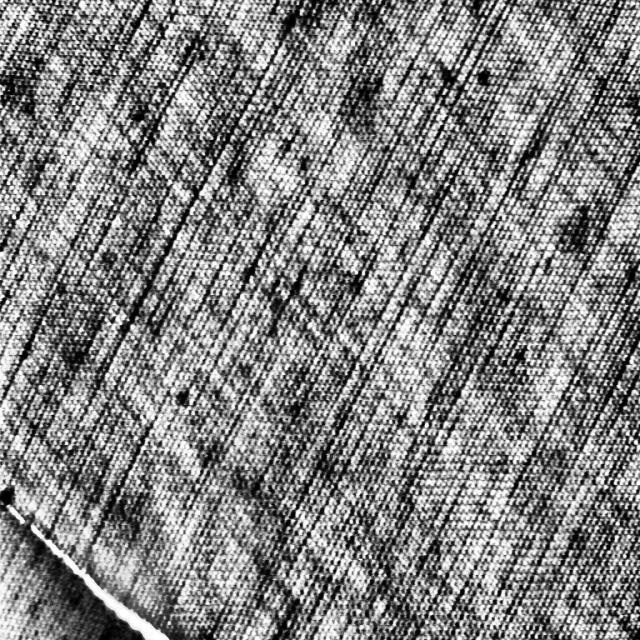Hole: (0, 439, 274, 640)
Stitch: (0, 437, 236, 640)
